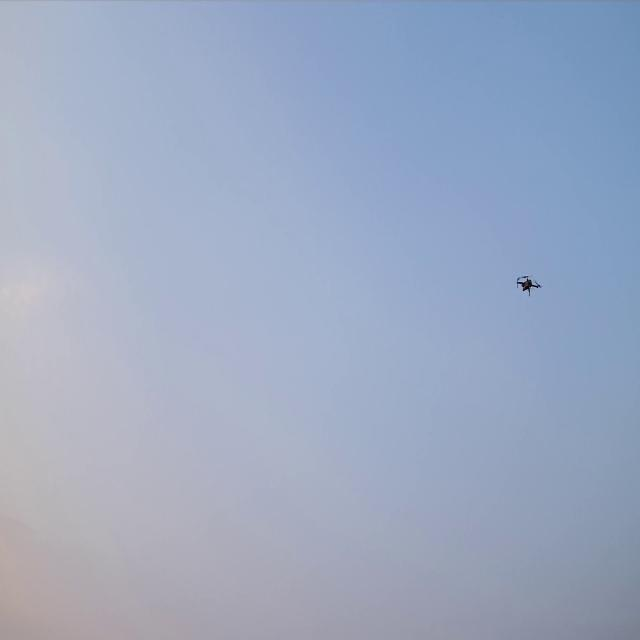UAV: (514, 273, 544, 298)
